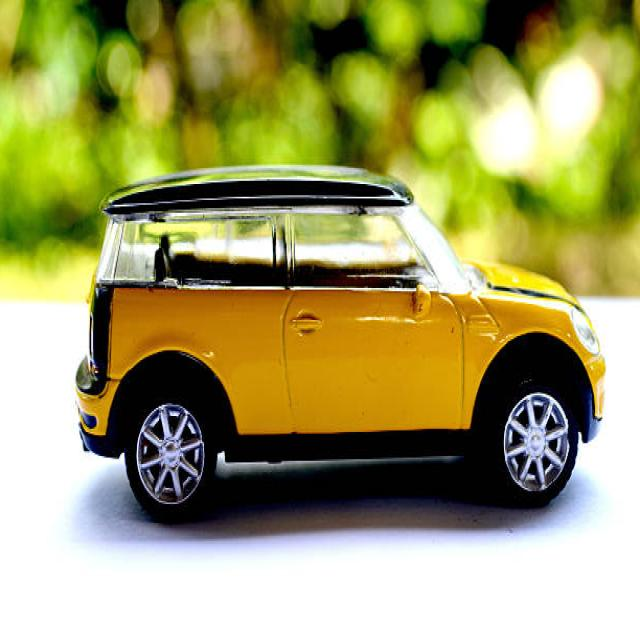Car: (76, 162, 606, 522)
